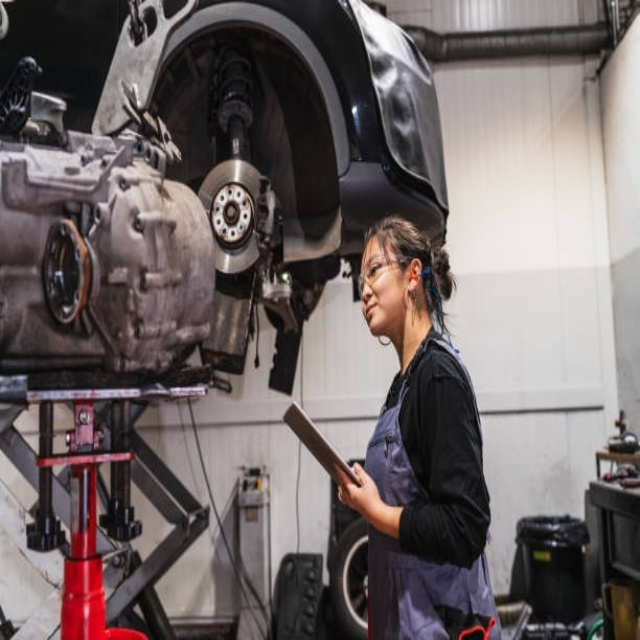Gafas: (358, 255, 410, 295)
Sin_guantes: (333, 458, 383, 516)
Sin_mascara: (362, 296, 388, 331)
